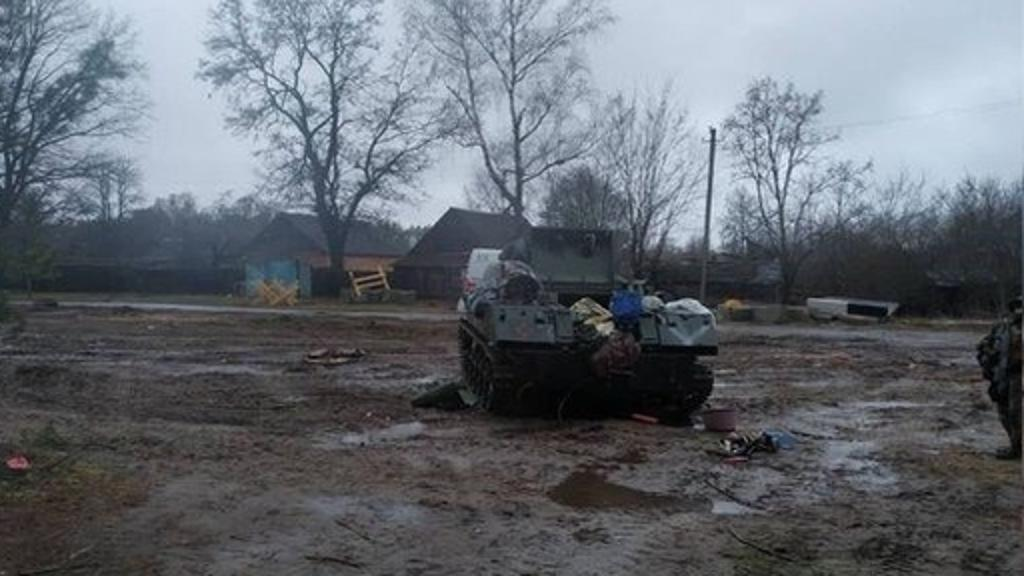APC-IFV: (434, 222, 722, 428)
